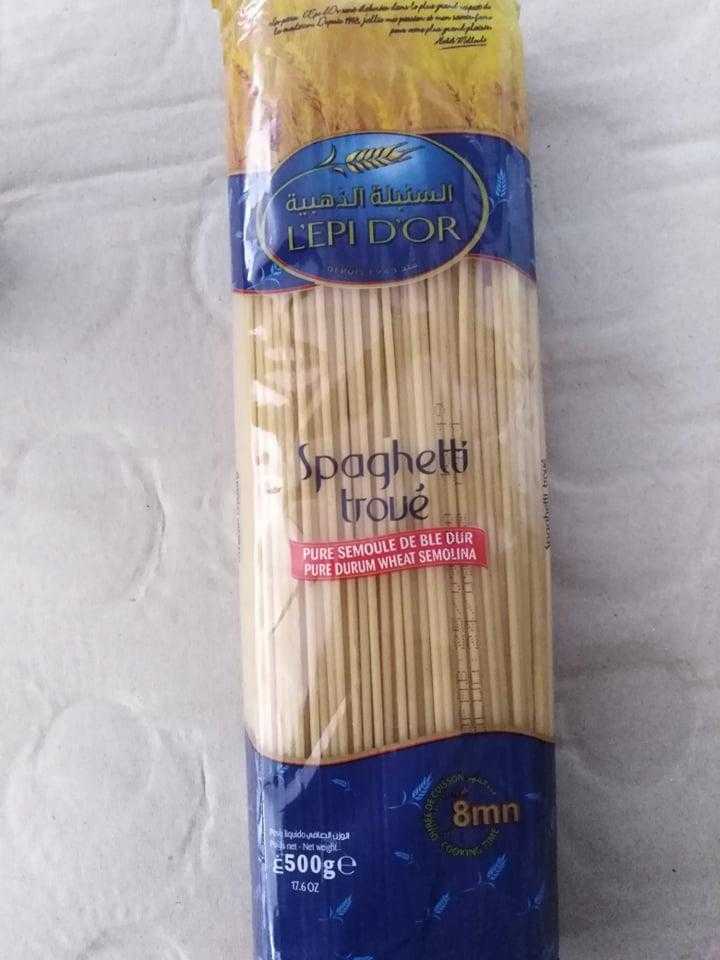Spaghetti: (222, 3, 563, 956)
